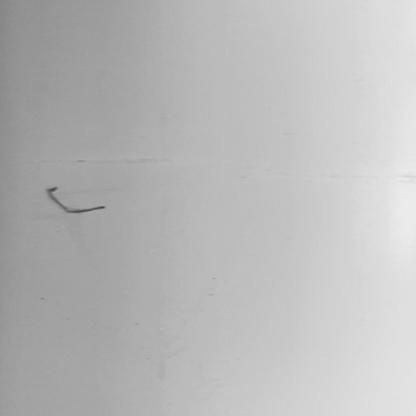fengxi: (45, 185, 116, 214)
